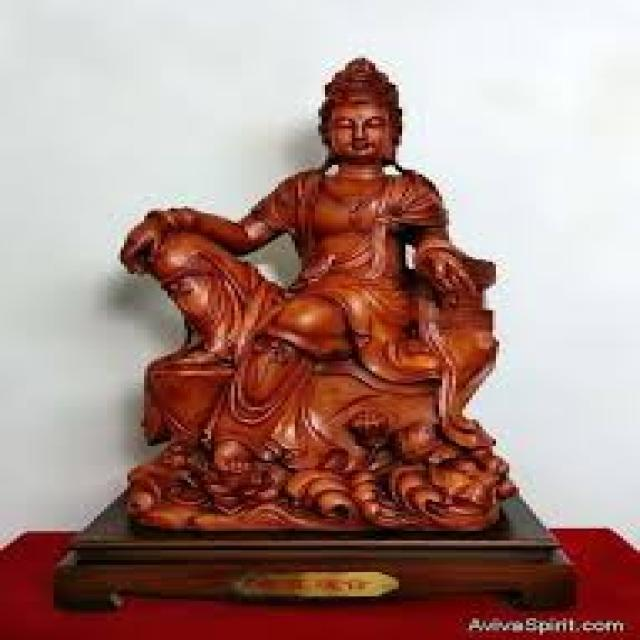Guan Yin: (246, 52, 450, 344)
